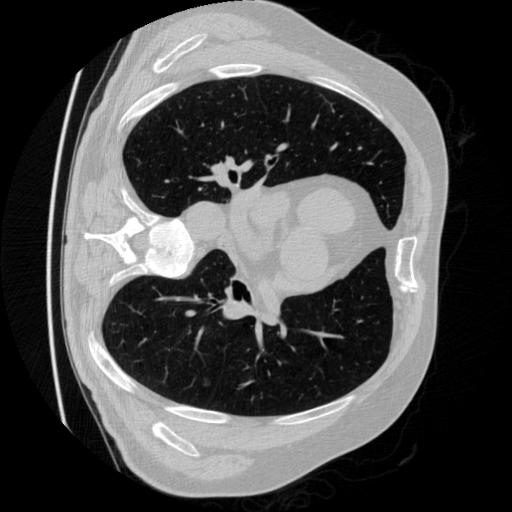nodule: (202, 378, 215, 391)
